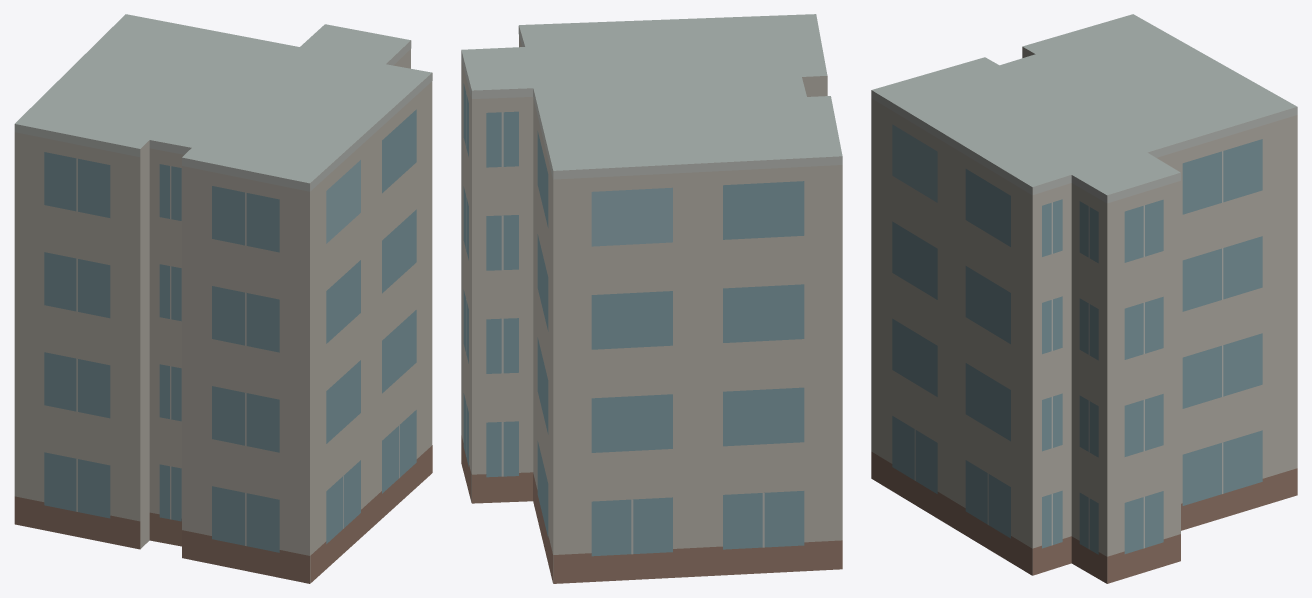
File: survey-upis-32978479.glb
The picture shows the model from 3 angles, left to right: view 1: azimuth 30°, elevation 25°; view 2: azimuth 150°, elevation 25°; view 3: azimuth 270°, elevation 25°; orthographic projection. The views are drawn at different scales.
Visible parts, largest first — view 1: survey-upis-32978479.tmp; view 2: survey-upis-32978479.tmp; view 3: survey-upis-32978479.tmp.
Boxes of the visible parts, x1,y1,x2,y2 form: survey-upis-32978479.tmp: [14, 14, 432, 583]; survey-upis-32978479.tmp: [461, 14, 842, 583]; survey-upis-32978479.tmp: [871, 14, 1297, 583].
Bounding box in the file's own units: 11.72 × 11.7 × 11.64.
